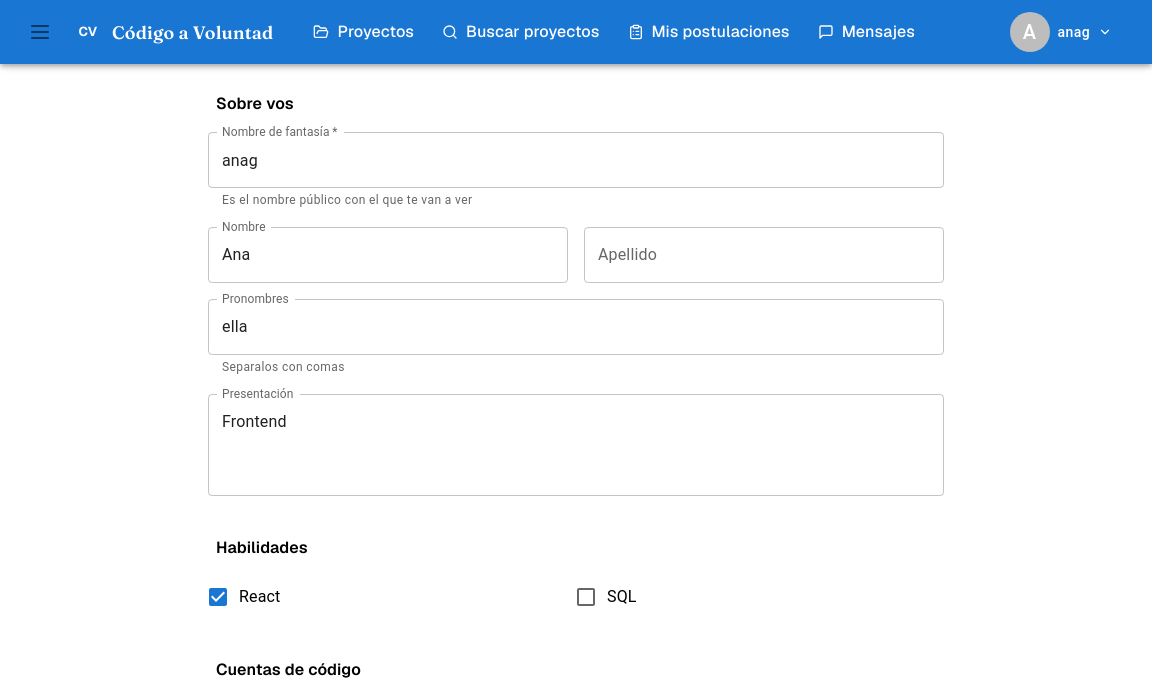
it: MiPerfil › al desconectar Telegram, el próximo guardado ya no lo envía y lo tipeado se conserva
Expected: the field labelled "Nombre de fantasía *" is shown, [208,132,944,188]
Replace the text in the text box labelled "Presentación" with "A medio escribir" at (576, 445), box [222,410,930,479]
(page scrolled)
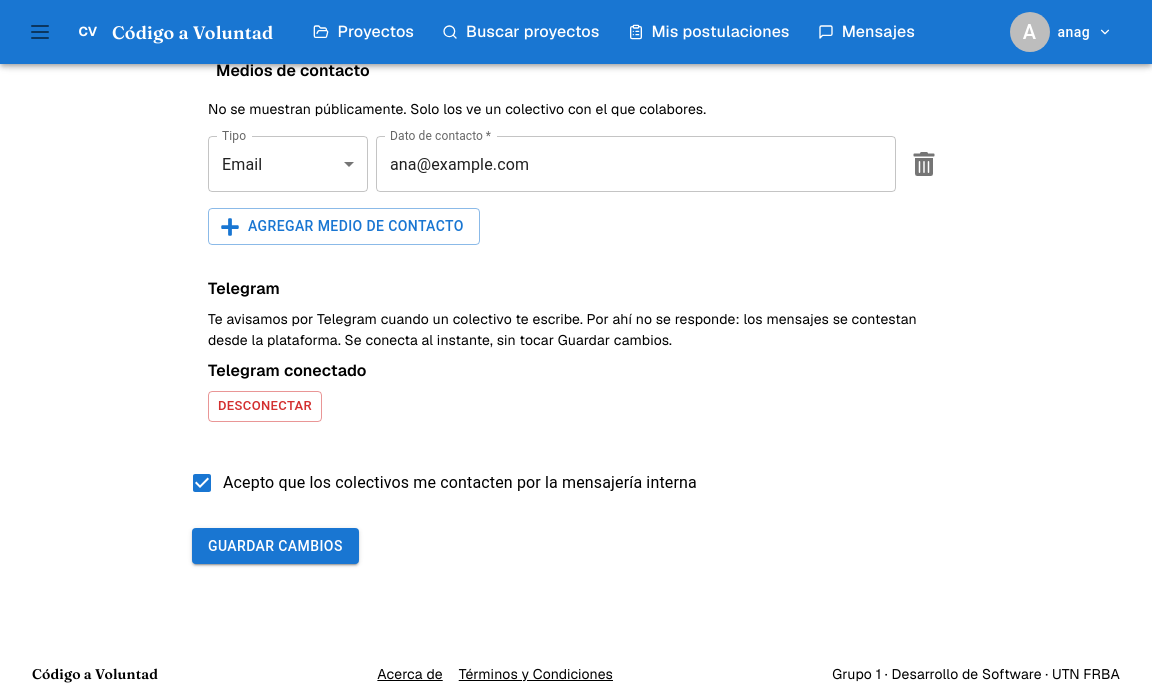
Click the button "Desconectar" at (265, 406), box [208,391,322,422]
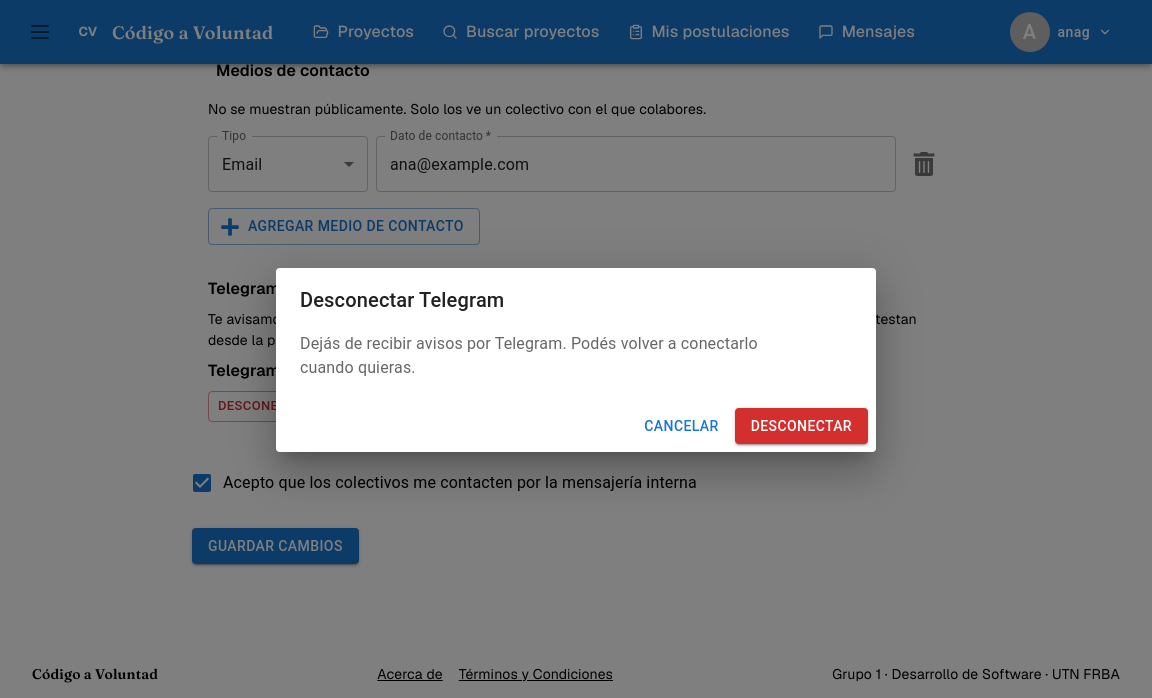
Click the button "Desconectar" at (801, 426), box [735,408,868,444]
(page scrolled)
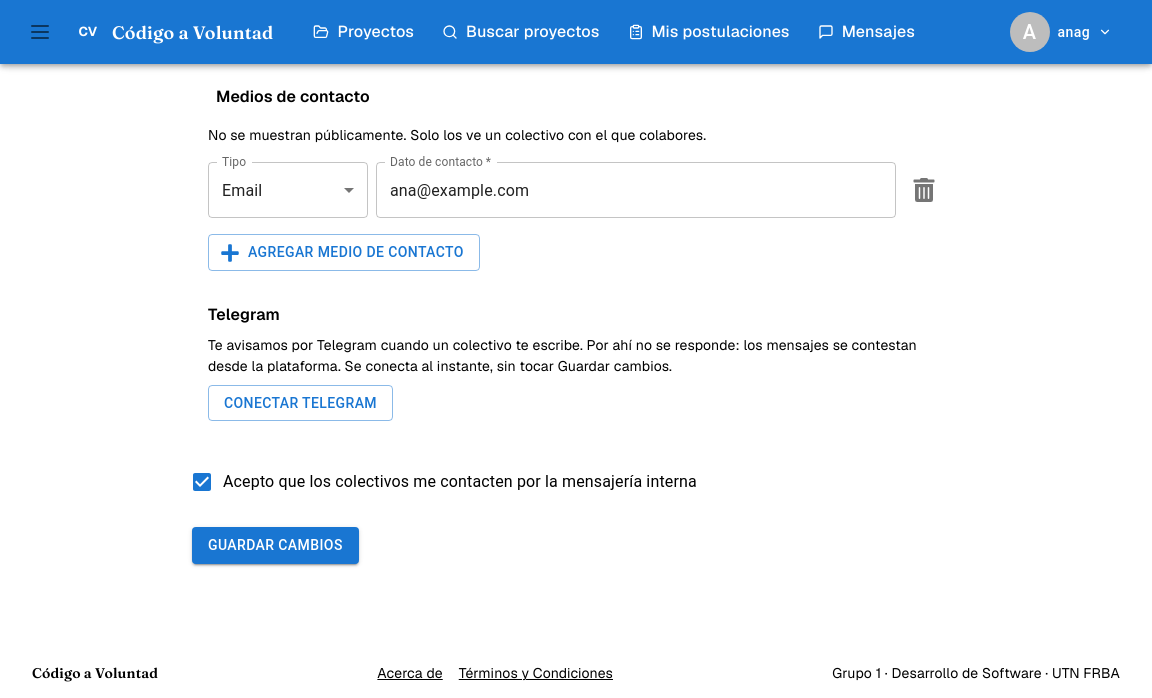
Now the button "Conectar Telegram" is shown, box [208,385,393,421]
Click the button "Guardar cambios" at (275, 546), box [192,527,359,564]
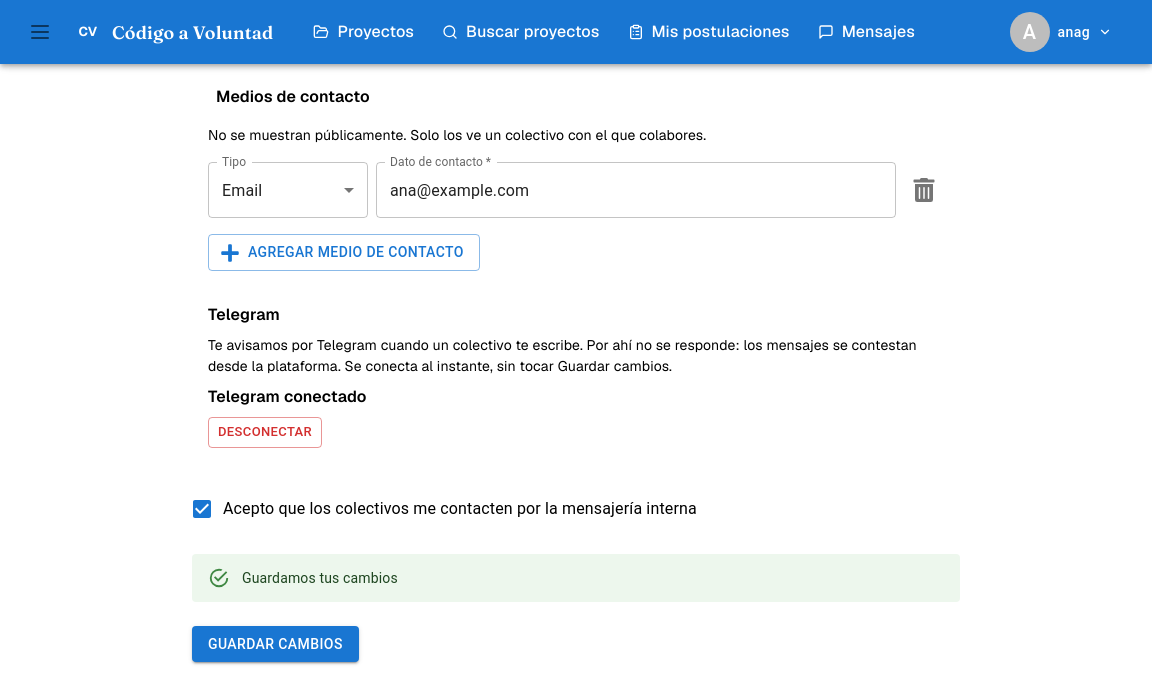
Now the text "Guardamos tus cambios" is shown, box [242,570,398,586]
